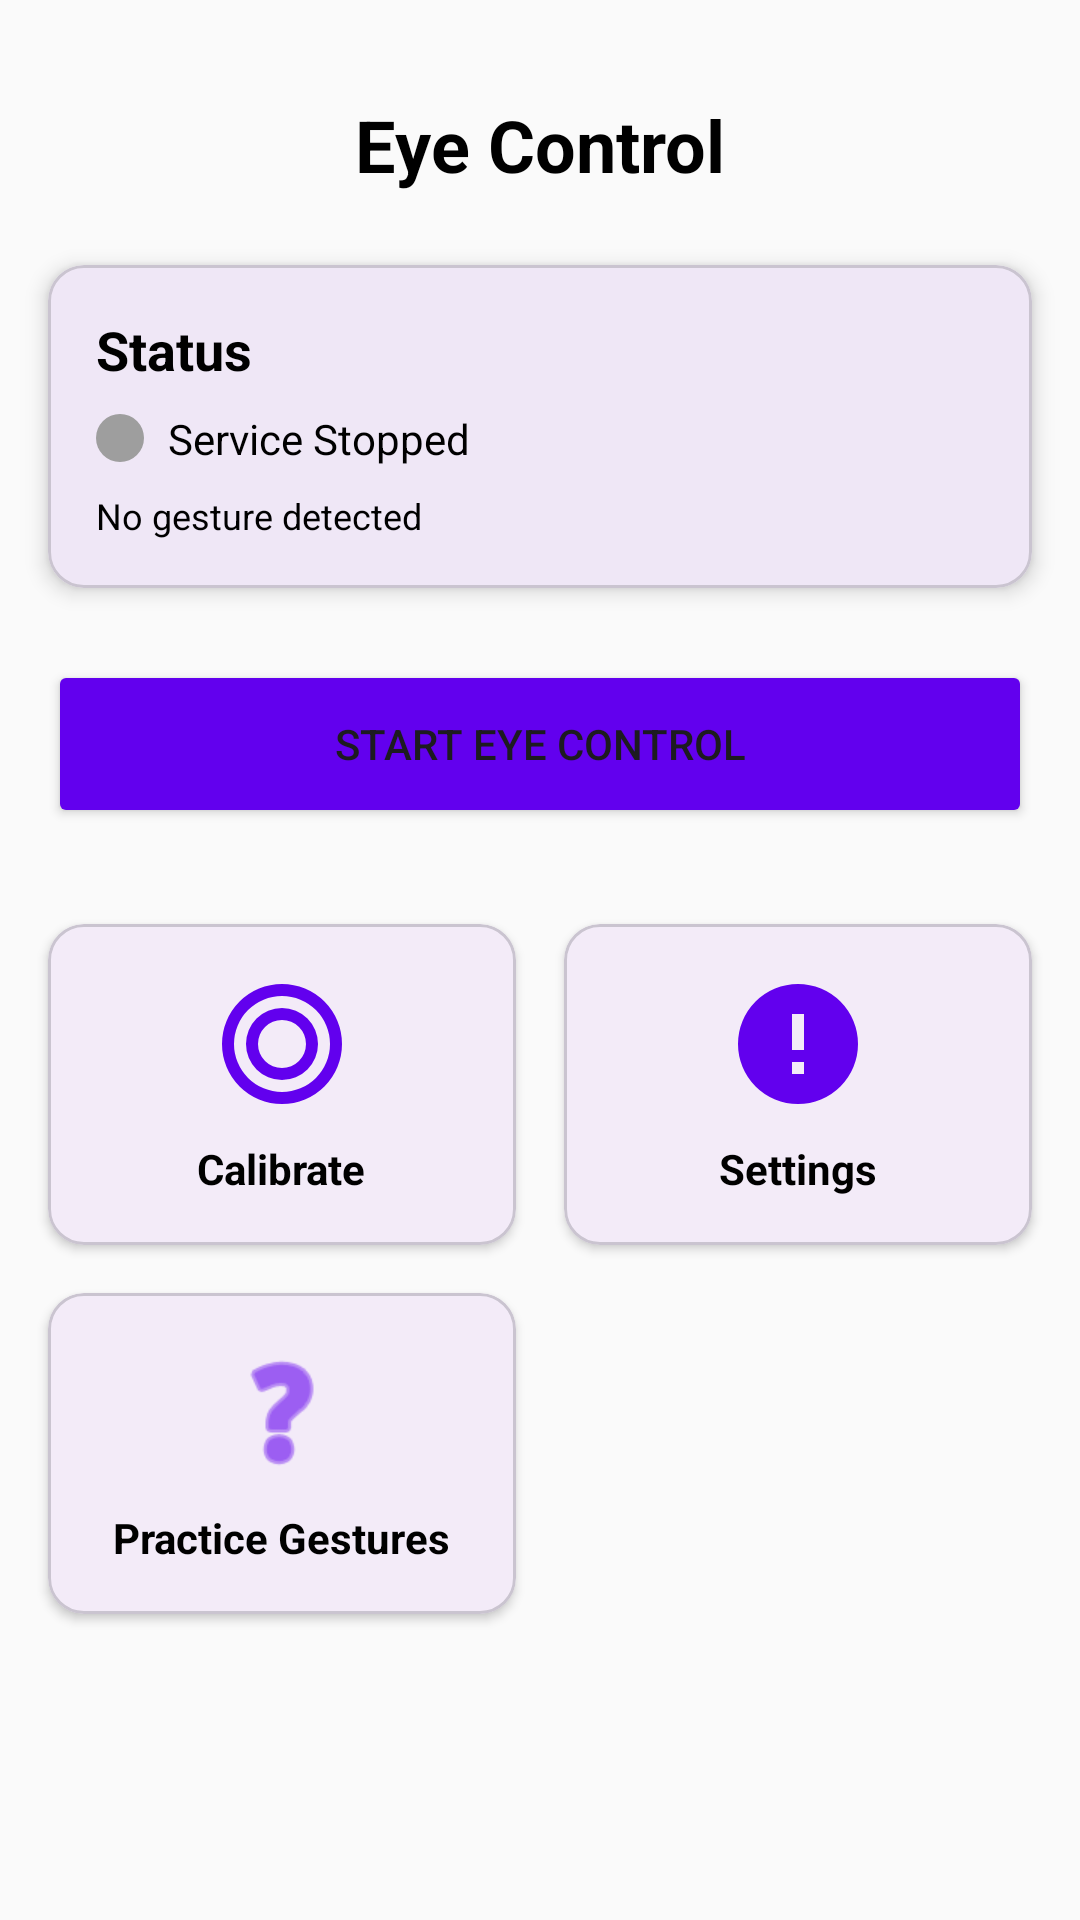

Icons on this 1080 x 1920 Android screen, each with the point to tap as [x,y]:
calibration: [282,1044]
help: [282,1413]
